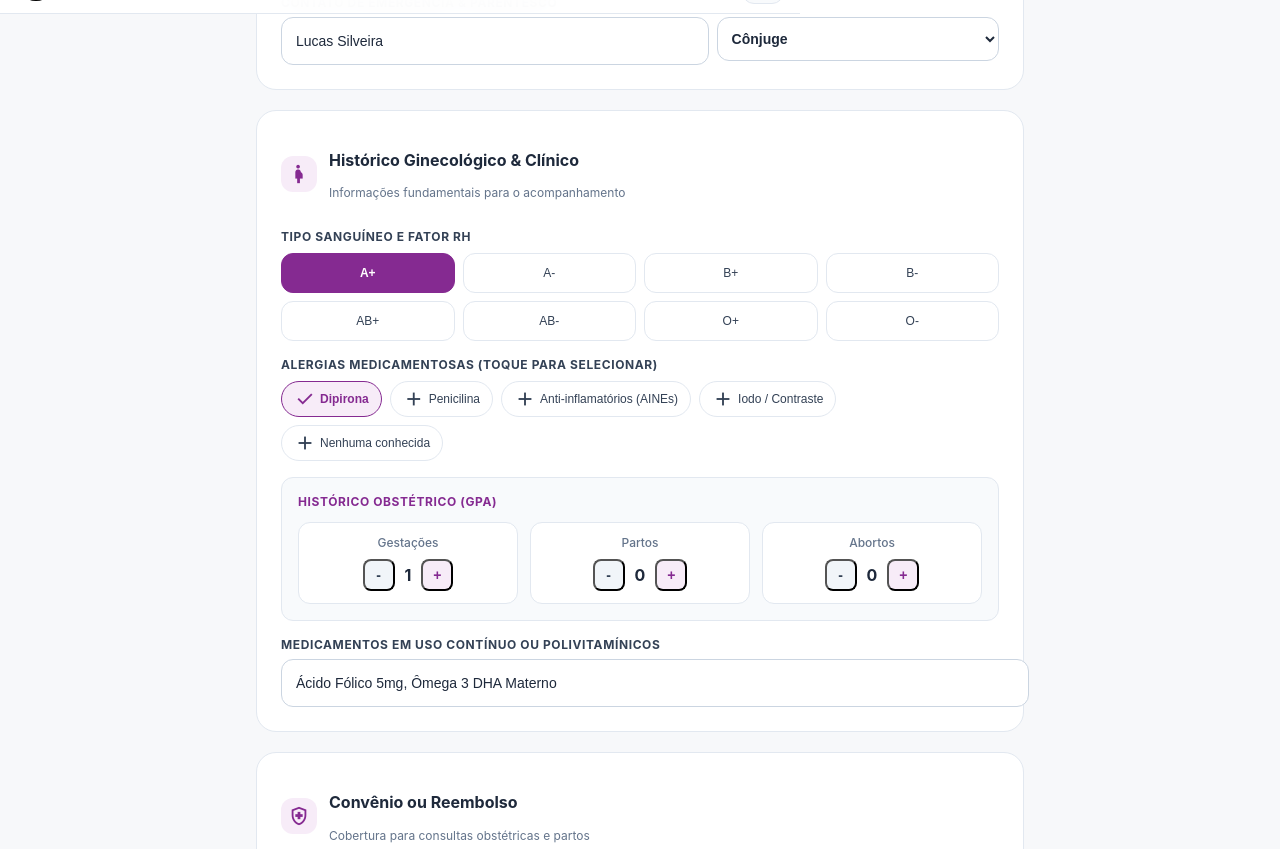
AdvancedRegistrationPage Component (Tela 4 - SPEC-0036 / Stitch) › permite alternar tags de alergia e alterar contadores de GPA
The width and height of the screenshot is (1280, 849).
(page scrolled)
// Toggle tag Dipirona
Click the button "Dipirona": (331, 399) [281,381,382,417]
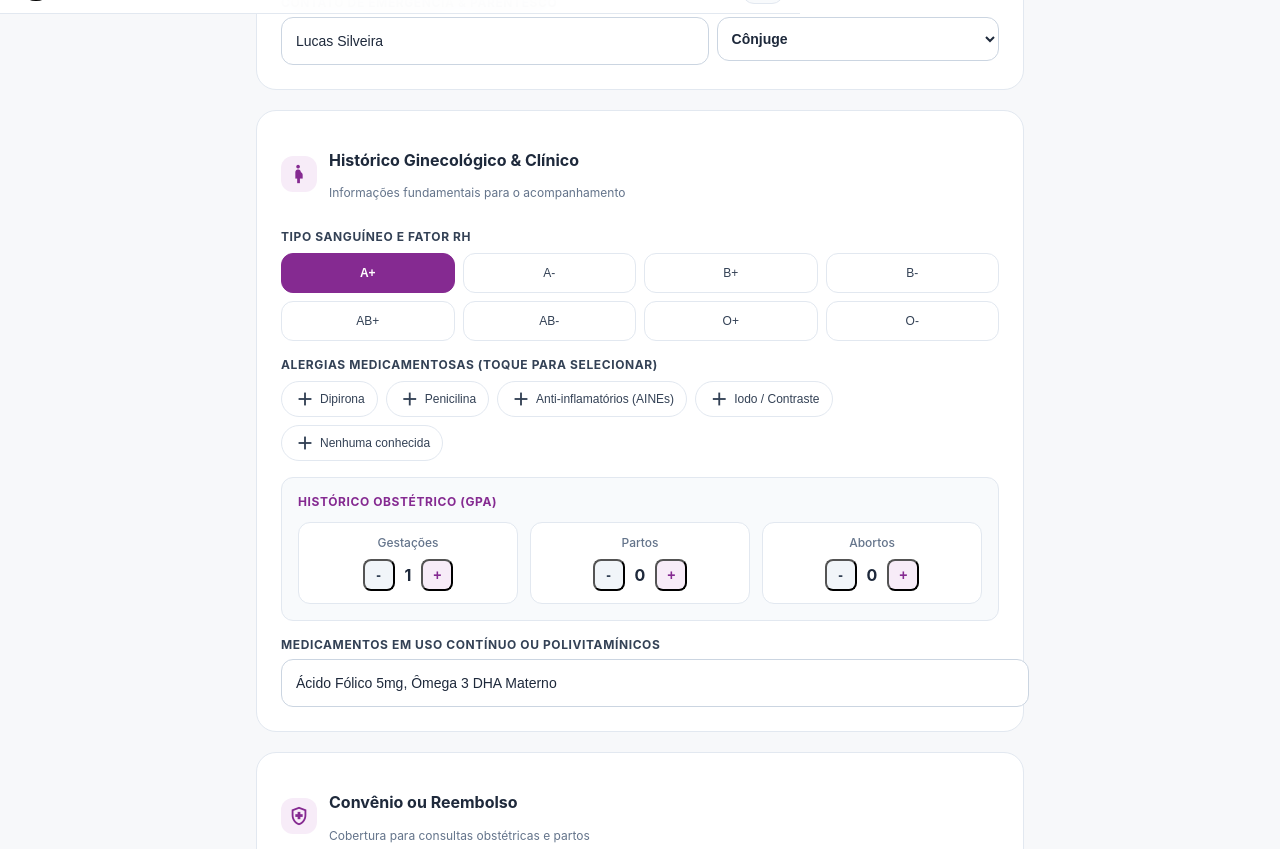
// Contadores GPA
Click the button named "Aumentar gestações": (438, 575) [422,559,454,591]
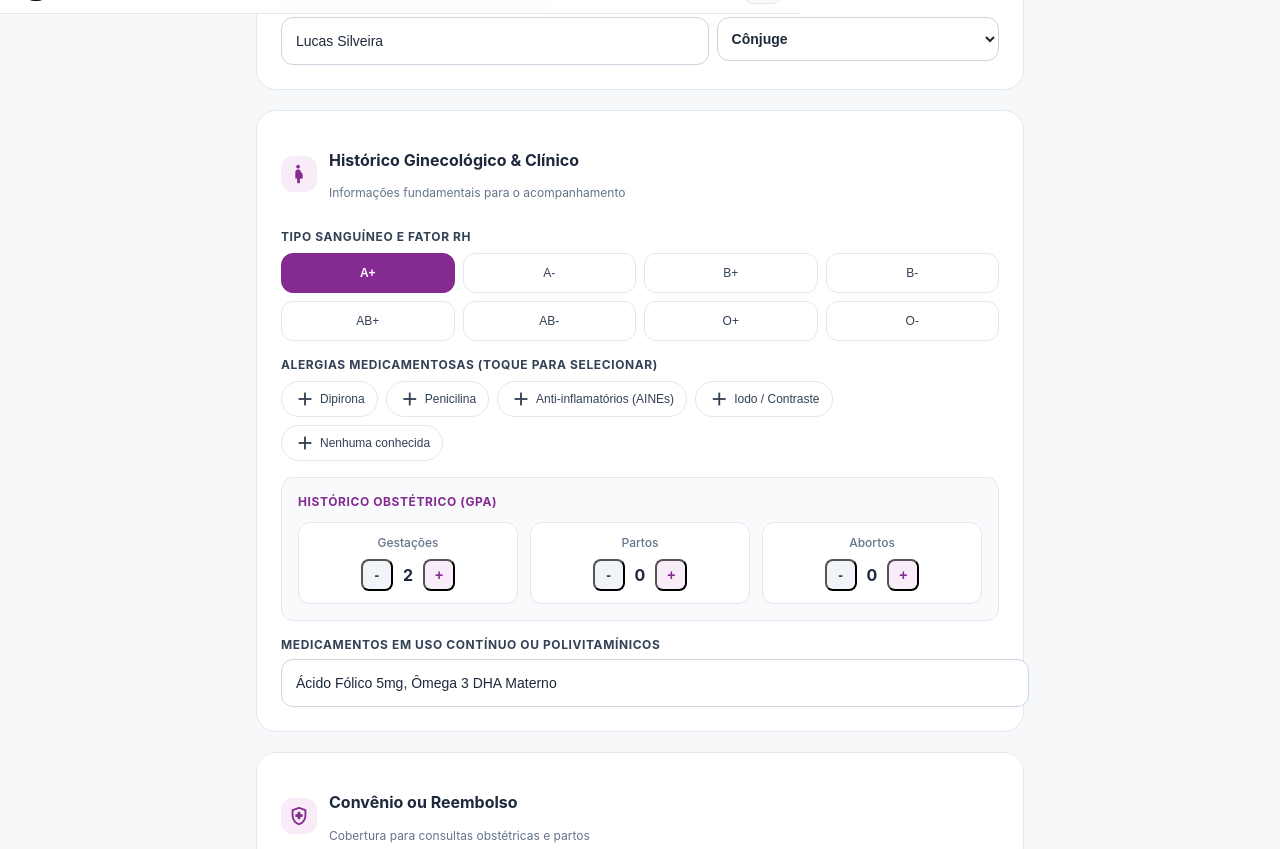
Check: the text with test id "gpa-gestations" reads "2", box [403,565,413,585]
